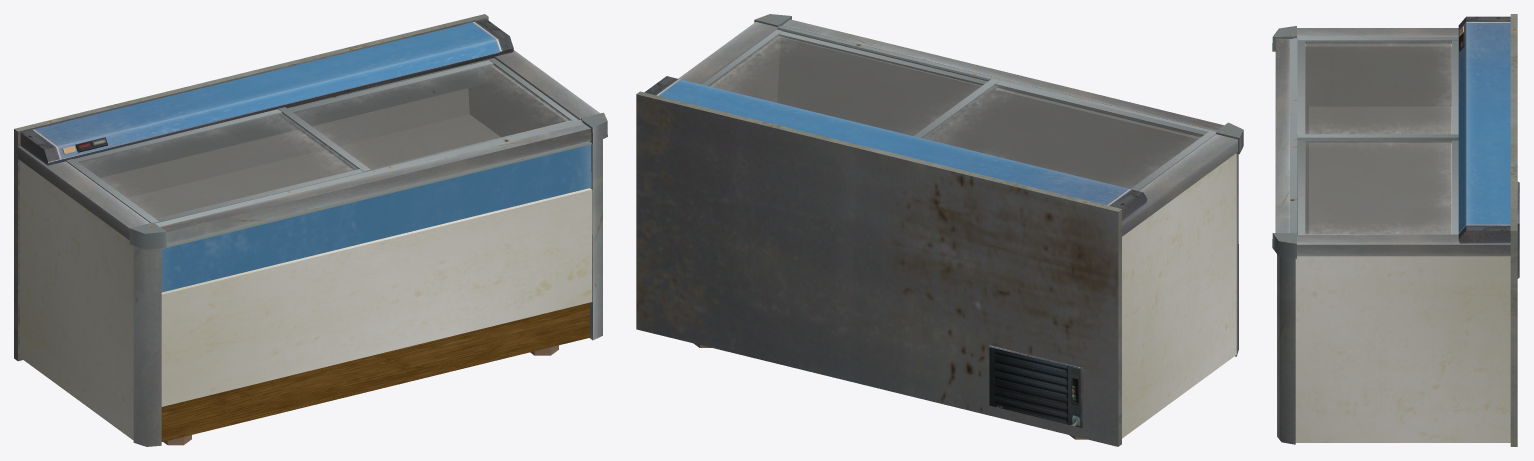
Rendered from icebox01.fbx.
The picture shows the model from 3 angles, left to right: view 1: azimuth 30°, elevation 25°; view 2: azimuth 150°, elevation 25°; view 3: azimuth 270°, elevation 25°; orthographic projection. The views are drawn at different scales.
Parts seen in each view (by area): view 1: Icebox01, Icebox01_cv1, Icebox01_cv2; view 2: Icebox01, Icebox01_cv1, Icebox01_cv2; view 3: Icebox01, Icebox01_cv1, Icebox01_cv2.
Part boxes in pixels (left/top/right/bottom): Icebox01: left=14, top=14, right=607, bottom=446; Icebox01_cv1: left=66, top=107, right=370, bottom=223; Icebox01_cv2: left=279, top=58, right=578, bottom=170; Icebox01: left=636, top=14, right=1243, bottom=446; Icebox01_cv1: left=913, top=79, right=1216, bottom=190; Icebox01_cv2: left=702, top=29, right=997, bottom=138; Icebox01: left=1272, top=14, right=1519, bottom=446; Icebox01_cv1: left=1297, top=37, right=1458, bottom=140; Icebox01_cv2: left=1298, top=140, right=1458, bottom=234.
Bounding box in the file's own units: 181 × 88.83 × 86.87.
